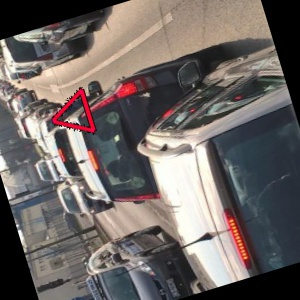triangle: (48, 84, 100, 138)
